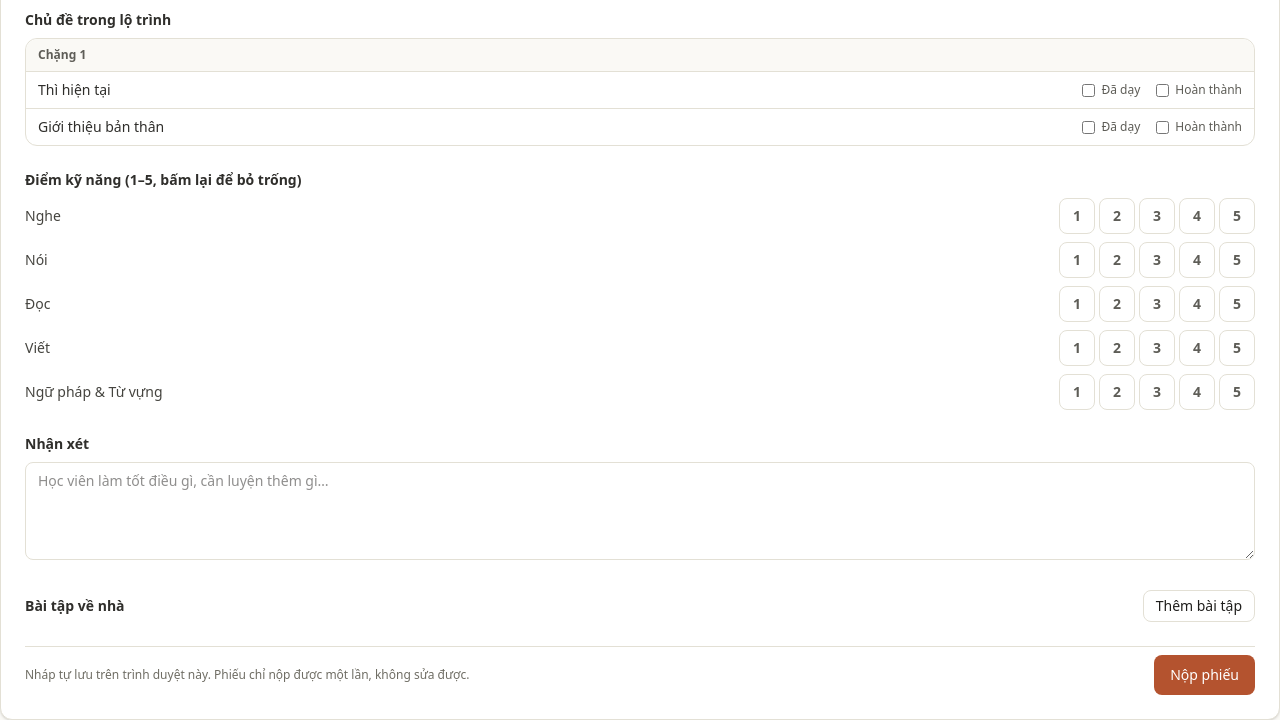
Scenario: SessionReportForm › không nộp khi chưa chấm kỹ năng và chưa có nhận xét
(page scrolled)
Click the button "Nộp phiếu".
click(1205, 675)  # box [1154,655,1255,695]
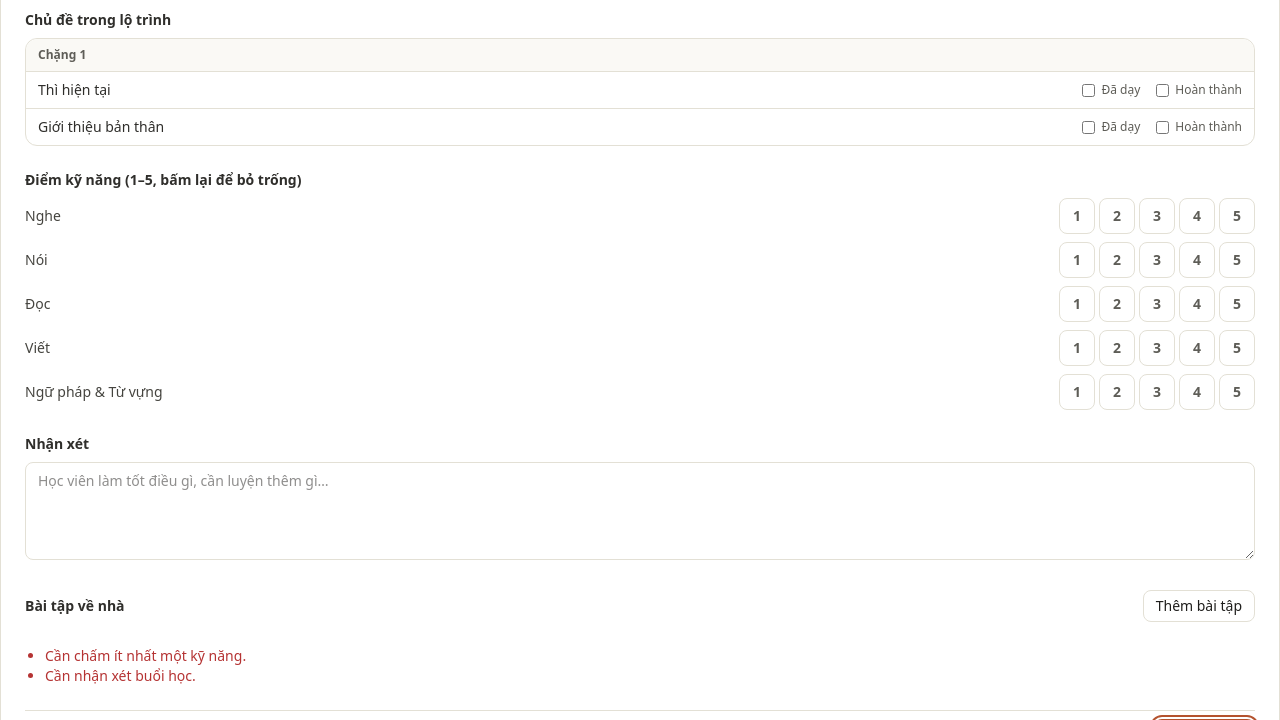
Expected: the message shows "Cần chấm ít nhất một kỹ năng.", [45,646,246,665]
Expected: the message shows "Cần nhận xét buổi học.", [45,666,196,685]
